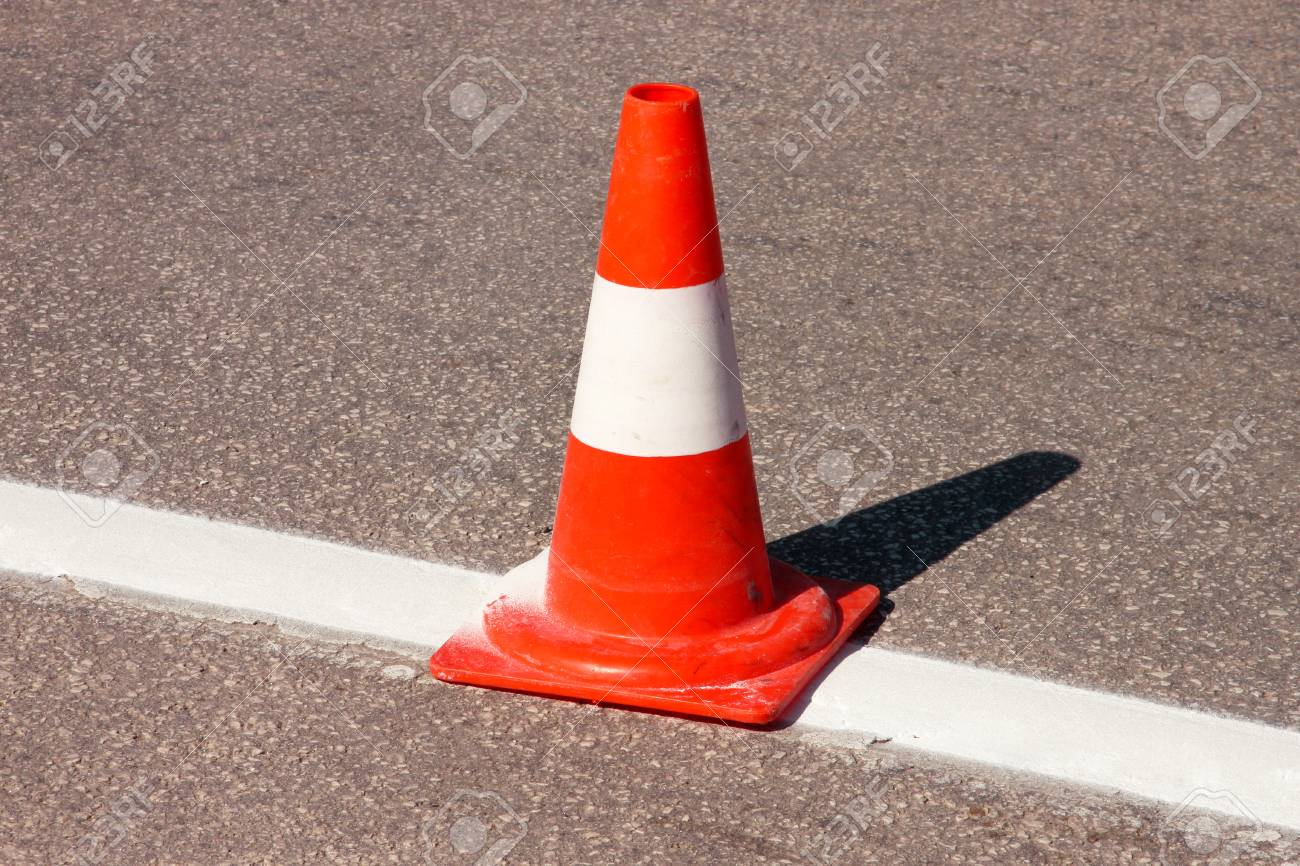cones: (449, 77, 880, 735)
